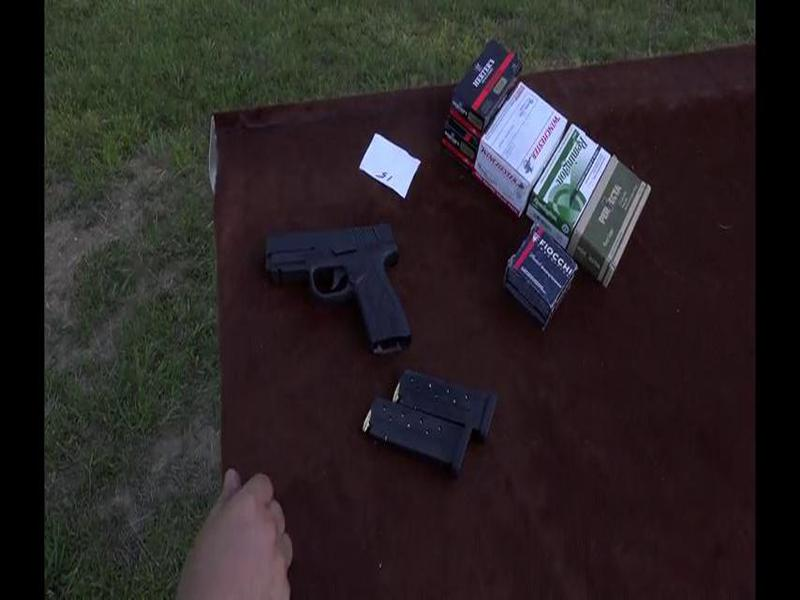Pistola: (263, 234, 425, 362)
